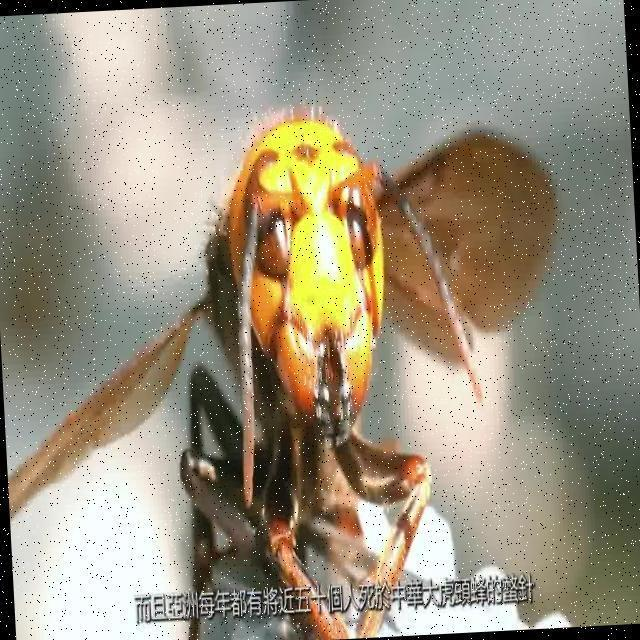Wasp: (0, 113, 569, 576)
